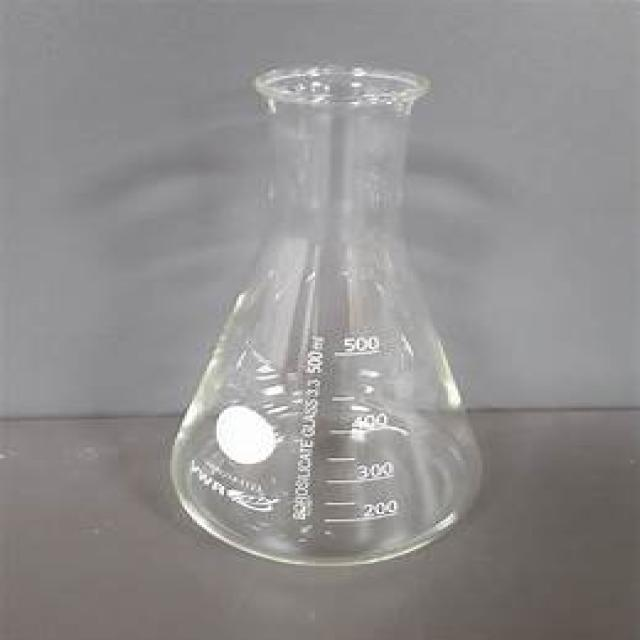Titrarion: (159, 55, 486, 568)
